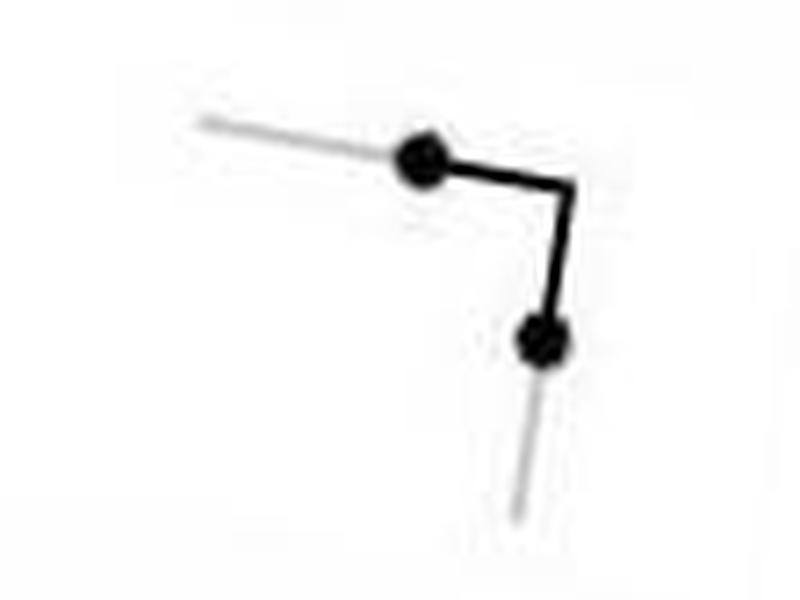butt_weld_90: (170, 80, 675, 408)
